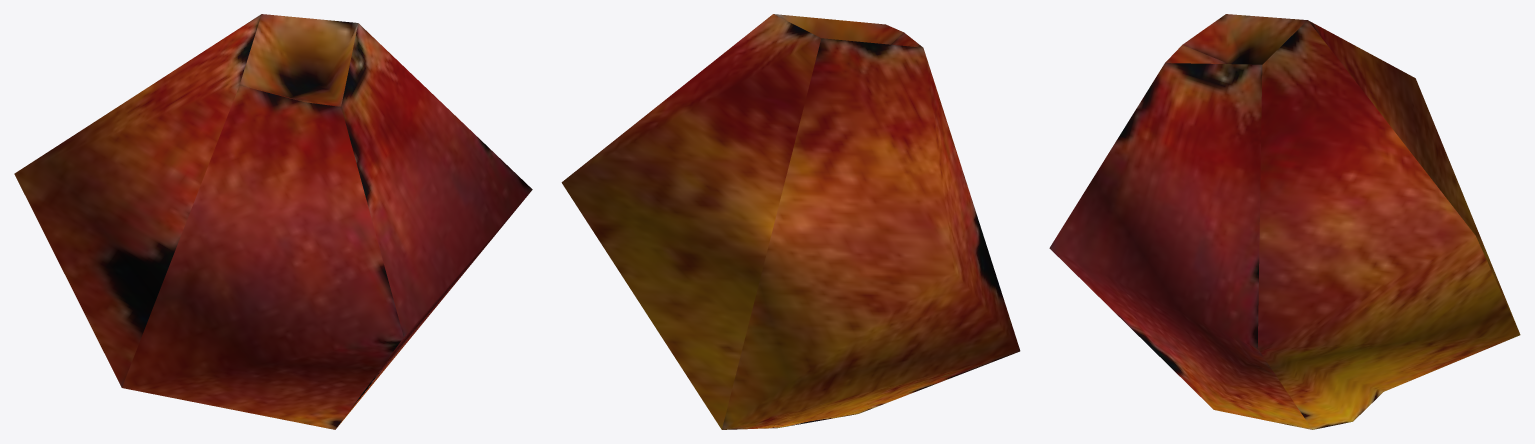
File: food_apple_01.glb
The picture shows the model from 3 angles, left to right: view 1: azimuth 30°, elevation 25°; view 2: azimuth 150°, elevation 25°; view 3: azimuth 270°, elevation 25°; orthographic projection. The views are drawn at different scales.
Visible parts, largest first — view 1: food_apple_01; view 2: food_apple_01; view 3: food_apple_01.
Boxes of the visible parts, x1=… form: food_apple_01: x1=14, y1=14, x2=532, y2=429; food_apple_01: x1=561, y1=14, x2=1020, y2=429; food_apple_01: x1=1049, y1=14, x2=1520, y2=429.
Bounding box in the file's own units: 0.0912 × 0.077 × 0.0871.
Materials: 1 (1 with a texture image).
